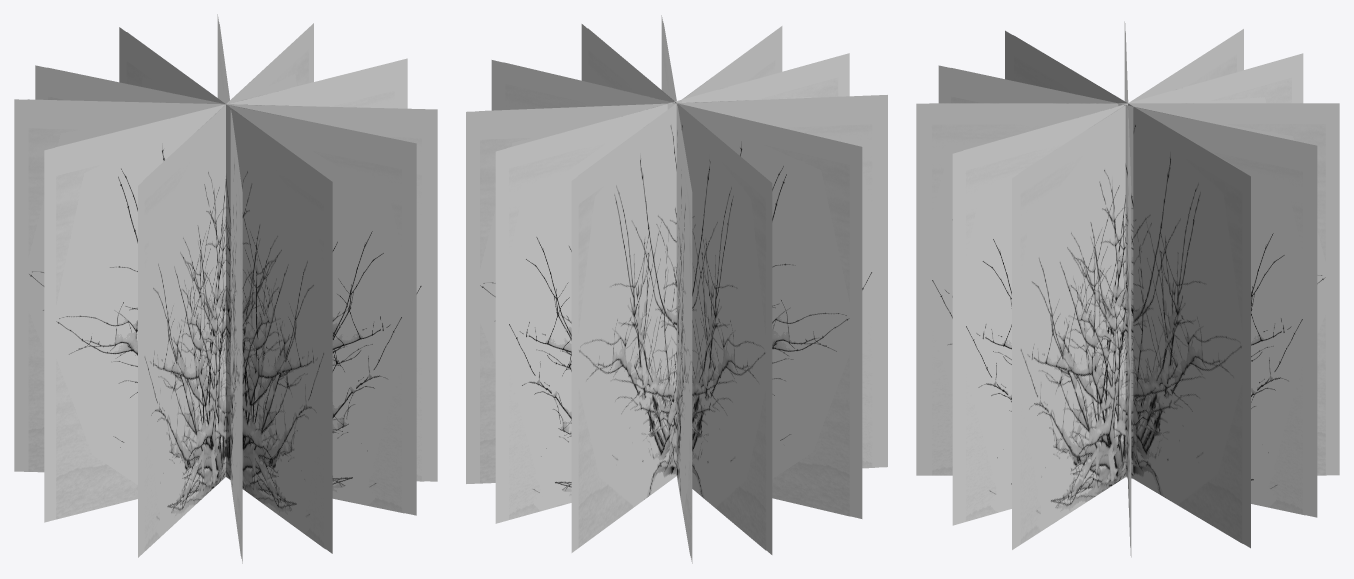
The model's file is Shrub.fbx.
3 views of the same model, side by side, from view 1: azimuth 30°, elevation 25°; view 2: azimuth 150°, elevation 25°; view 3: azimuth 270°, elevation 25° (orthographic).
Parts seen in each view (by area): view 1: pPlane3; view 2: pPlane3; view 3: pPlane3.
Part boxes in pixels (left/top/right/bottom): pPlane3: left=14, top=14, right=437, bottom=563; pPlane3: left=466, top=15, right=887, bottom=563; pPlane3: left=916, top=21, right=1339, bottom=557.
Bounding box in the file's own units: 2.77 × 2.68 × 2.77.
Materials: 12 (12 with a texture image).
